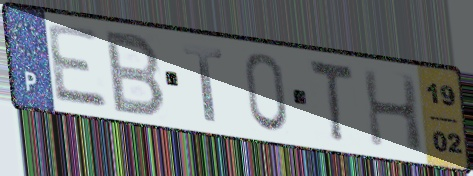0: (243, 51, 291, 135)
B: (104, 28, 169, 120)
E: (44, 21, 112, 112)
H: (360, 66, 427, 155)
T: (306, 56, 356, 148), (181, 42, 226, 125)
